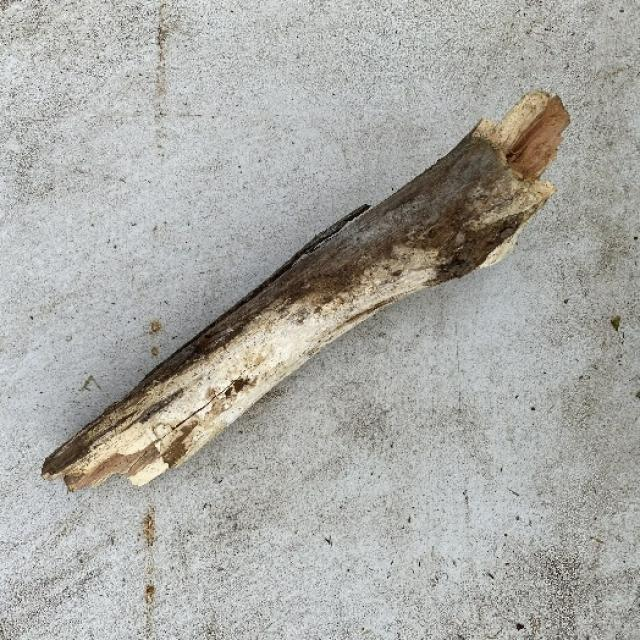organik: (46, 80, 563, 510)
